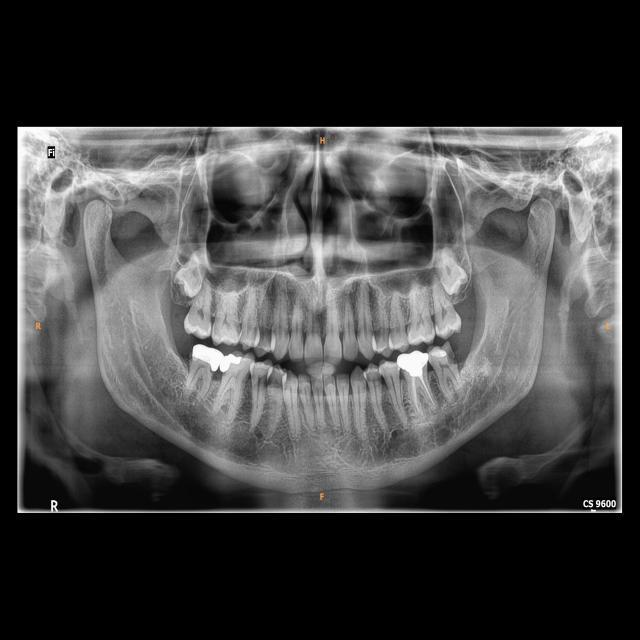dentin-curugu: (442, 343, 458, 366)
dolgu: (222, 349, 242, 375)
kanal-tedavisi: (406, 370, 436, 411)
kaplama: (190, 342, 223, 375), (397, 349, 429, 376)
